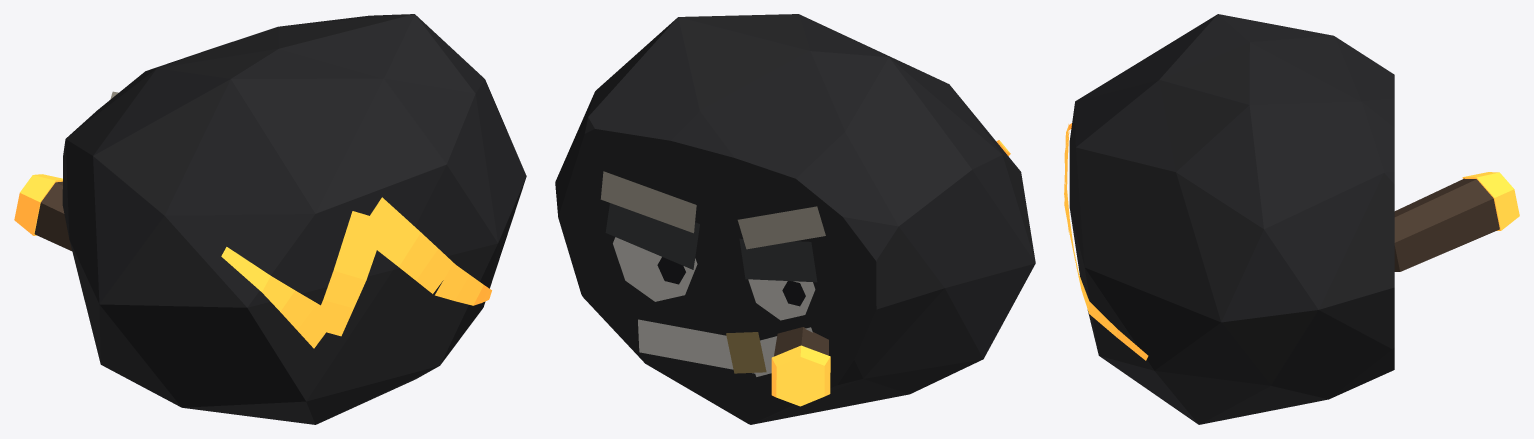
File: coal.glb
3 renders of one model, left to right at view 1: azimuth 30°, elevation 25°; view 2: azimuth 150°, elevation 25°; view 3: azimuth 270°, elevation 25°, orthographic. The views are drawn at different scales.
Parts seen in each view (by area): view 1: Prop; view 2: Prop; view 3: Prop.
Part boxes in pixels (<box>): Prop: <box>14,14,526,424</box>; Prop: <box>555,14,1035,424</box>; Prop: <box>1064,14,1519,424</box>.
Size of the model in its own units: 0.26 by 0.2 by 0.24.
